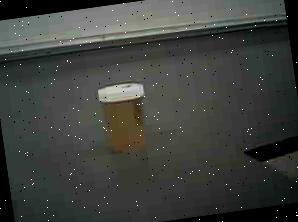Bottle B: (84, 70, 164, 163)
